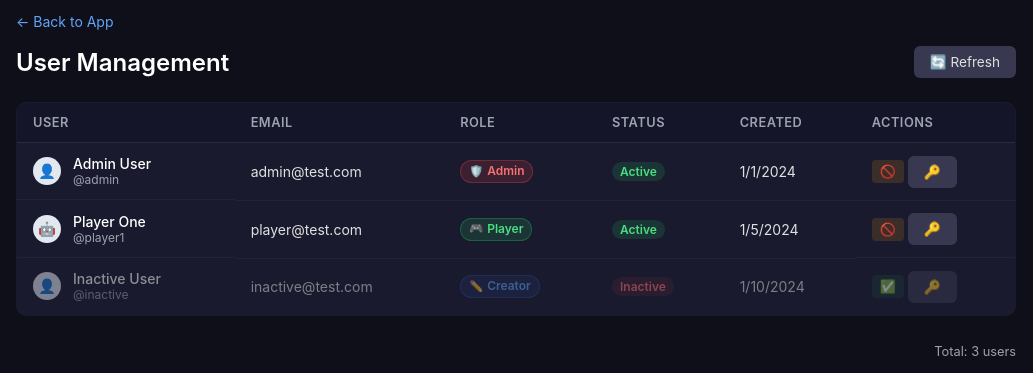
Scenario: AdminUsersView › shows confirm dialog for password reset
Click the button with test id "reset-password-2": (932, 229) [908, 213, 957, 245]
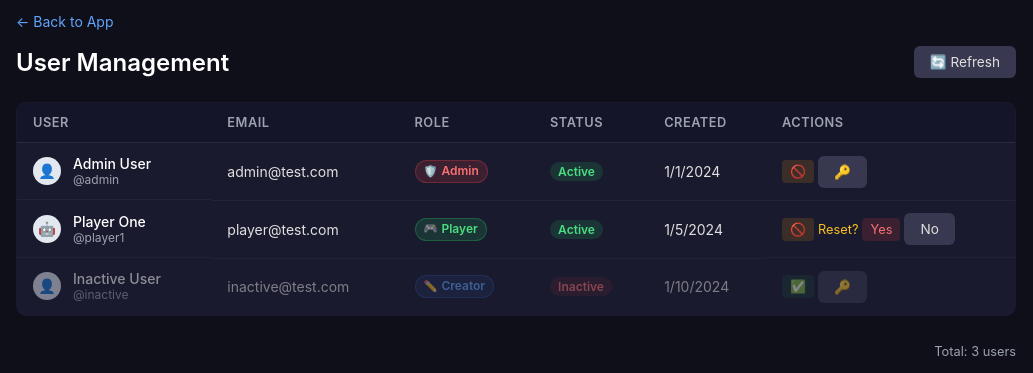
Expected: the button with test id "confirm-reset-2" is shown, [862, 218, 900, 240]
Expected: the text "Reset?" is shown, [818, 222, 858, 236]
